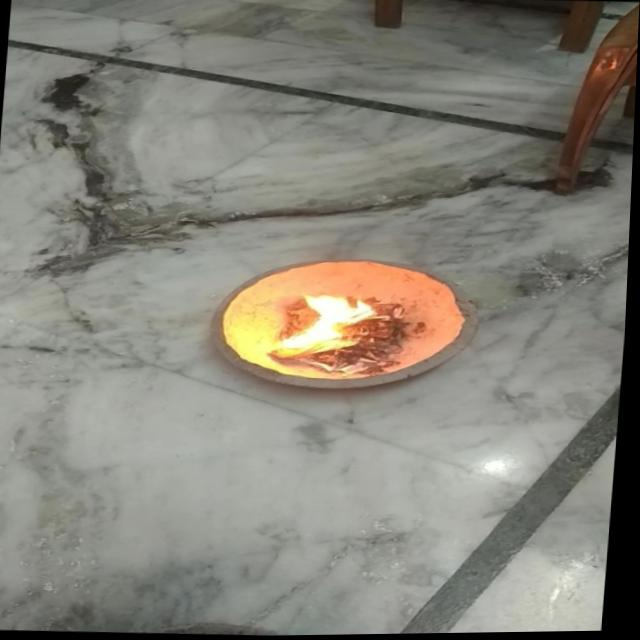fire: (284, 287, 389, 363)
